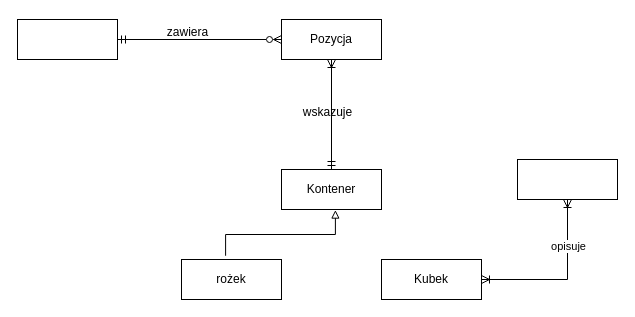
Image size: 635x317. Some labels were removed from this diagram. Here are the shapes that lost their labels. From the top down, the centre of each, then its label:
At (67,39): "Zamówienie".
At (567,179): "Kolor".
